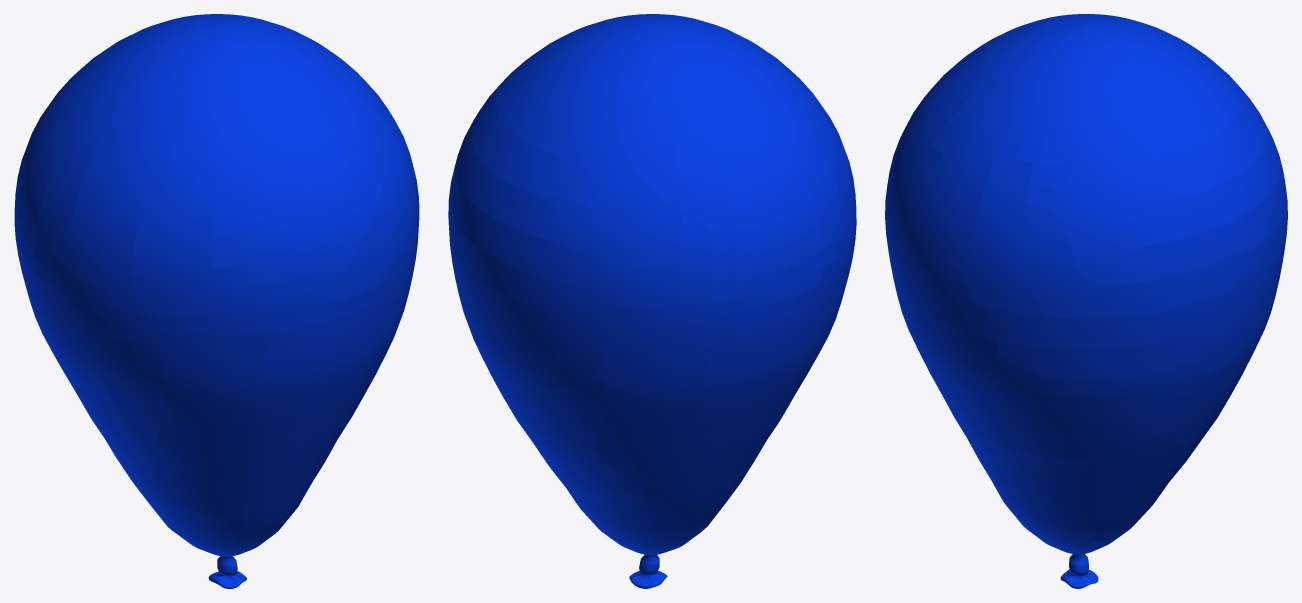
Rendered from balloon.gltf.
The picture shows the model from 3 angles, left to right: view 1: azimuth 30°, elevation 25°; view 2: azimuth 150°, elevation 25°; view 3: azimuth 270°, elevation 25°; orthographic projection.
Visible parts, largest first — view 1: Sphere; view 2: Sphere; view 3: Sphere.
Boxes of the visible parts, left/top/right/bottom form: Sphere: left=14, top=14, right=419, bottom=588; Sphere: left=448, top=14, right=856, bottom=588; Sphere: left=885, top=14, right=1287, bottom=588.
Size of the model in its own units: 1.91 by 2.87 by 1.91.
